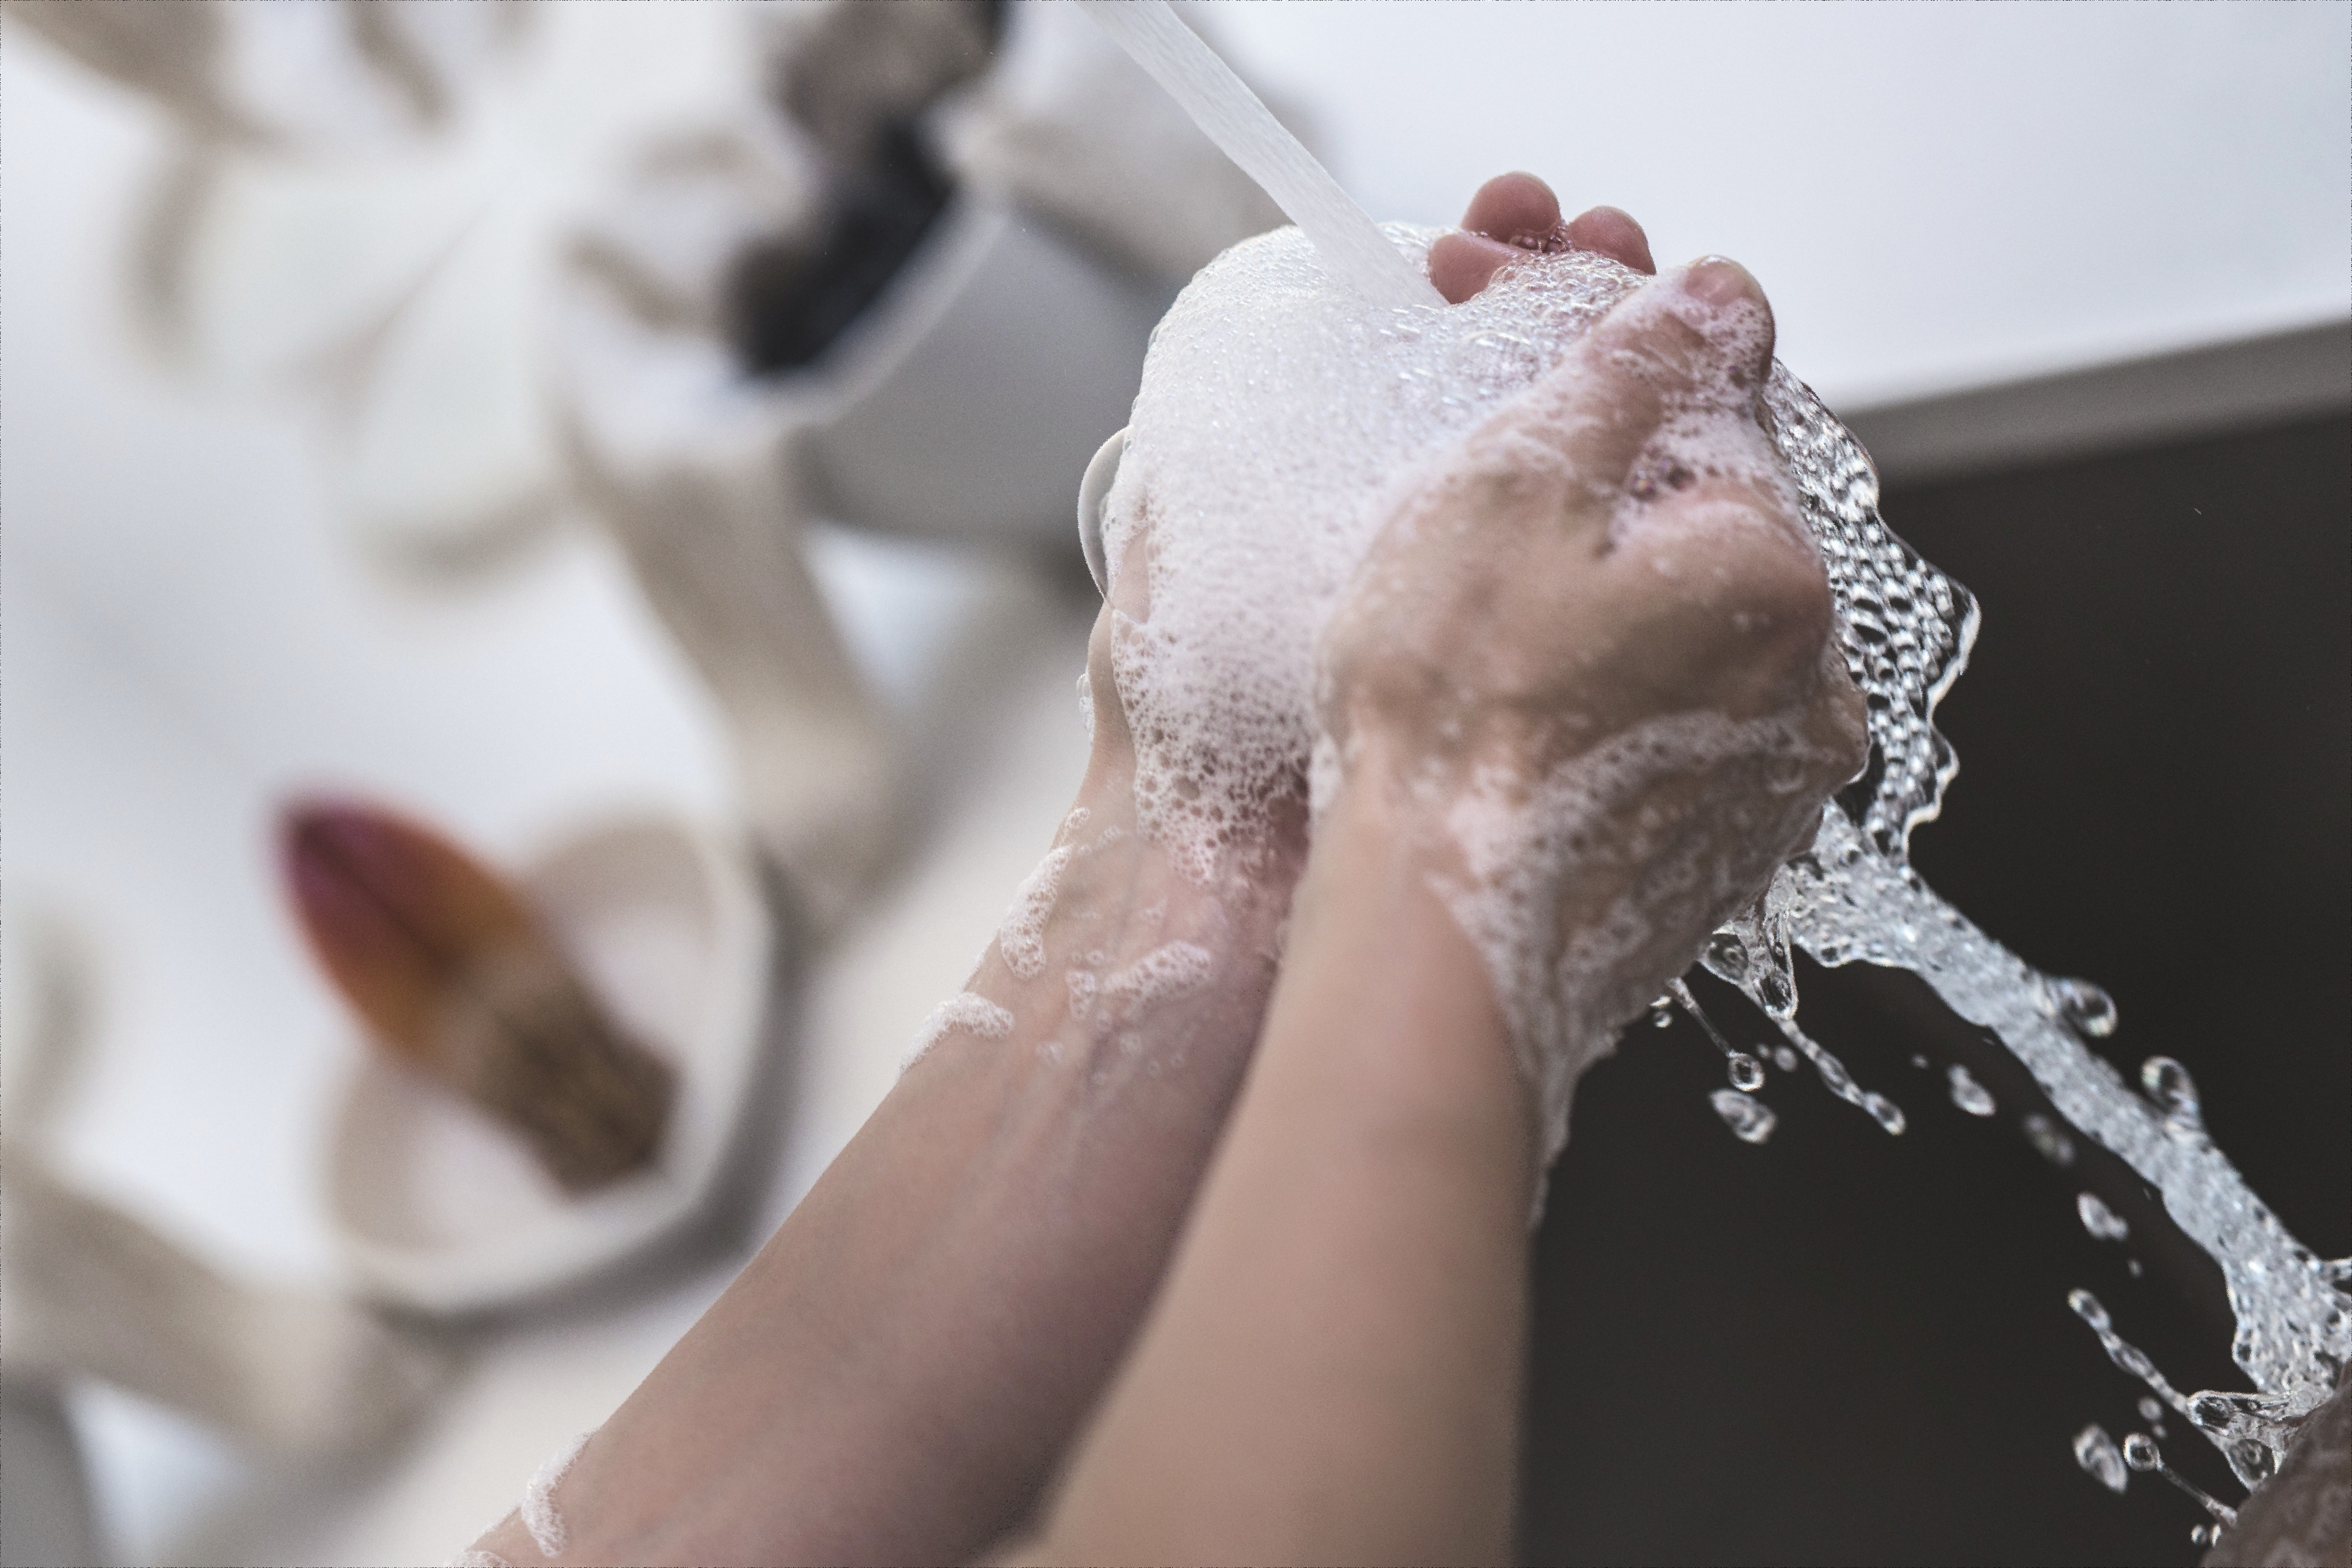washing hand: (439, 0, 2303, 1346)
